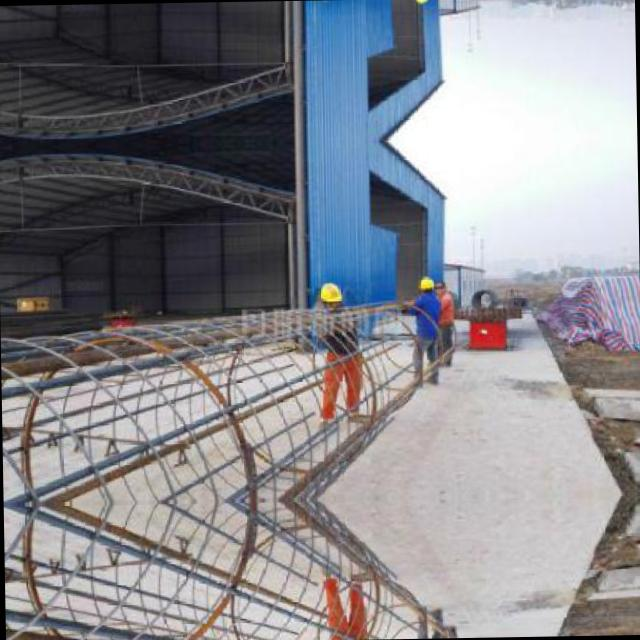helmet: (317, 278, 347, 313), (416, 273, 438, 295), (411, 0, 434, 4)
